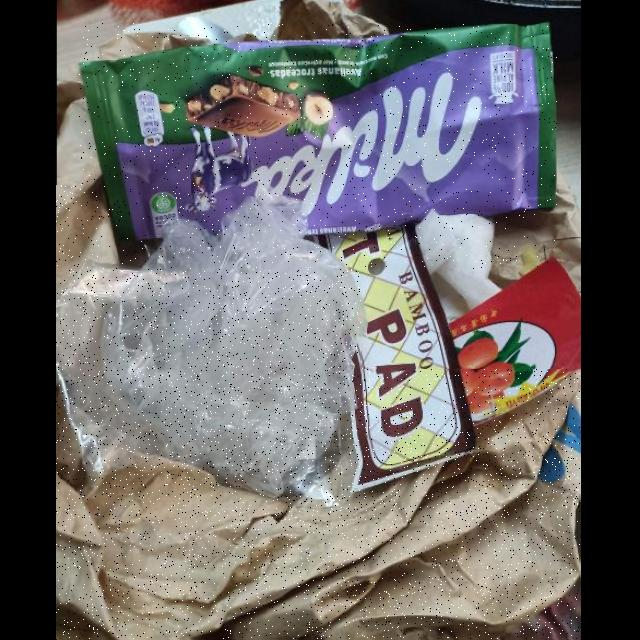paper: (57, 370, 580, 639)
plastic: (56, 186, 361, 508)
wrapper: (79, 23, 557, 269)
